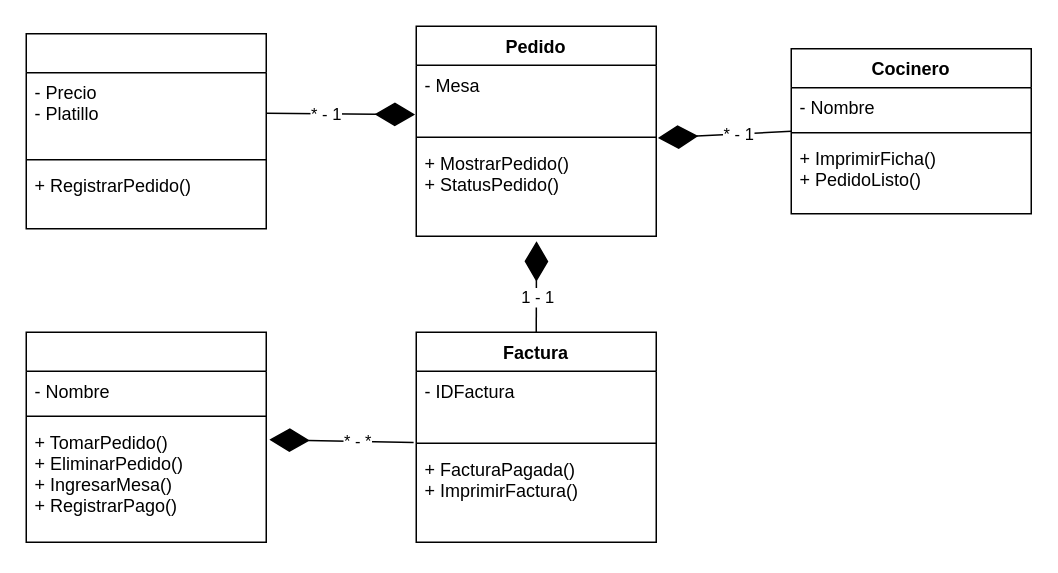
Image size: 1058x573. Some labels were removed from this diagram. Each missing label, with the box of its shape:
Camarero: (25, 331, 266, 542)
Detalle_pedido: (25, 32, 266, 229)
